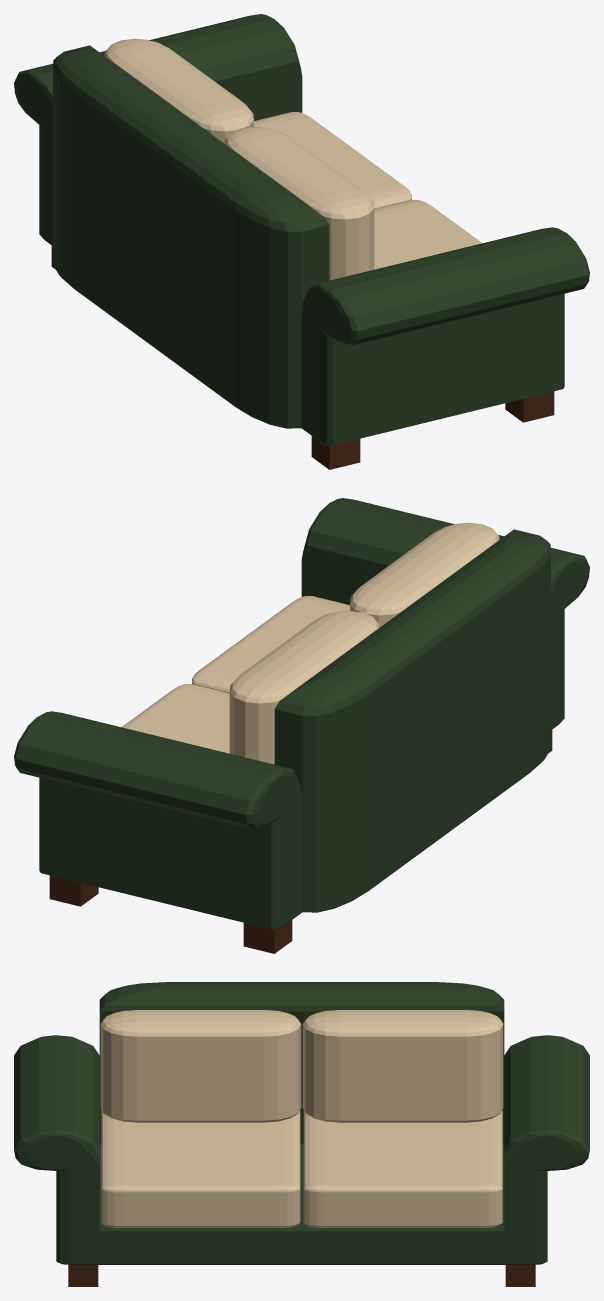
Rendered from ikili_koltug.fbx.
The picture shows the model from 3 angles, top to bottom: view 1: azimuth 30°, elevation 25°; view 2: azimuth 150°, elevation 25°; view 3: azimuth 270°, elevation 25°; orthographic projection. The views are drawn at different scales.
Visible parts, largest first — view 1: Cube; view 2: Cube; view 3: Cube.
Boxes of the visible parts, box(x1,y1,x2,y2) form: Cube: box(14, 14, 589, 469); Cube: box(14, 498, 589, 953); Cube: box(14, 982, 589, 1286).
Size of the model in its own units: 252 by 218 by 556.
